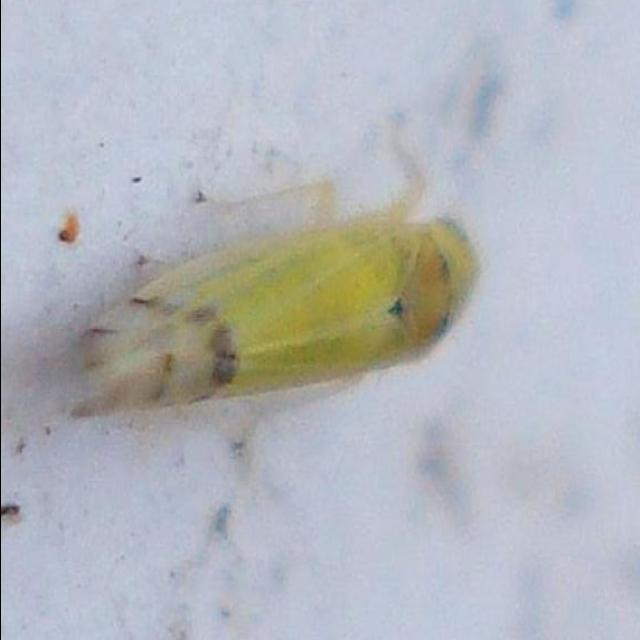green leaf hopper: (74, 144, 477, 416)
